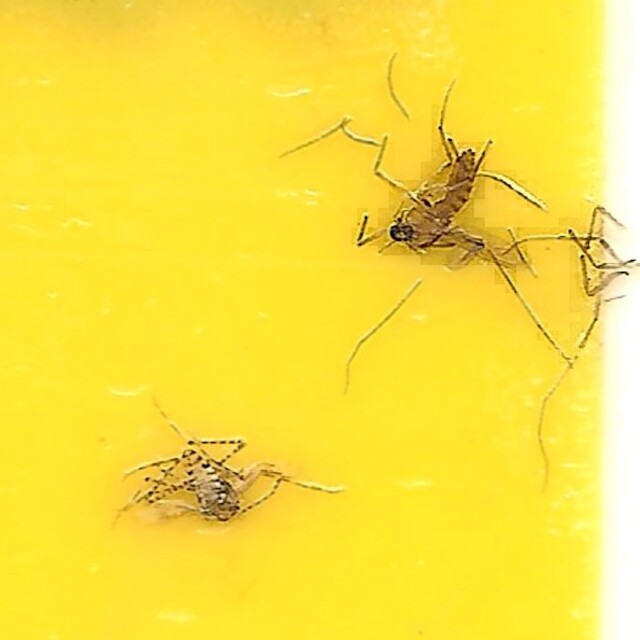Nematocera: (313, 108, 519, 284), (121, 437, 286, 532)
